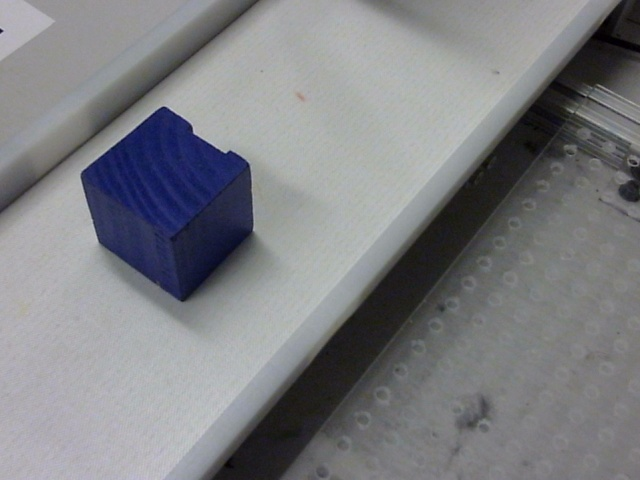BlueBlock: (80, 106, 253, 302)
